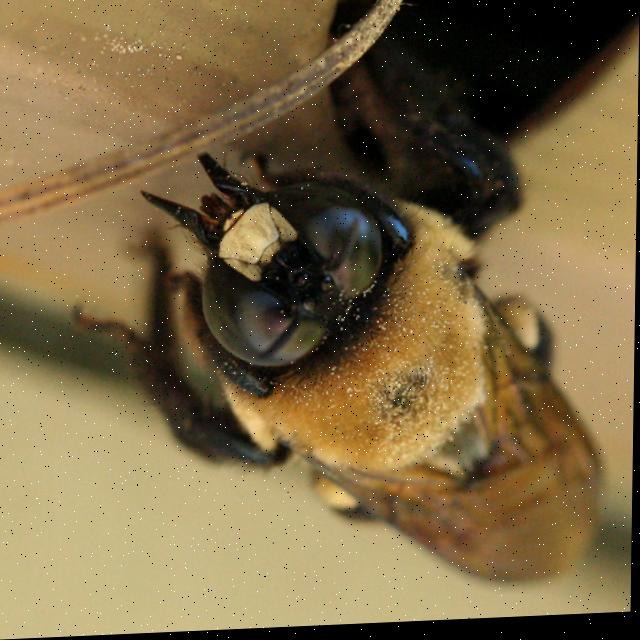Meliponula: (65, 92, 637, 637)
